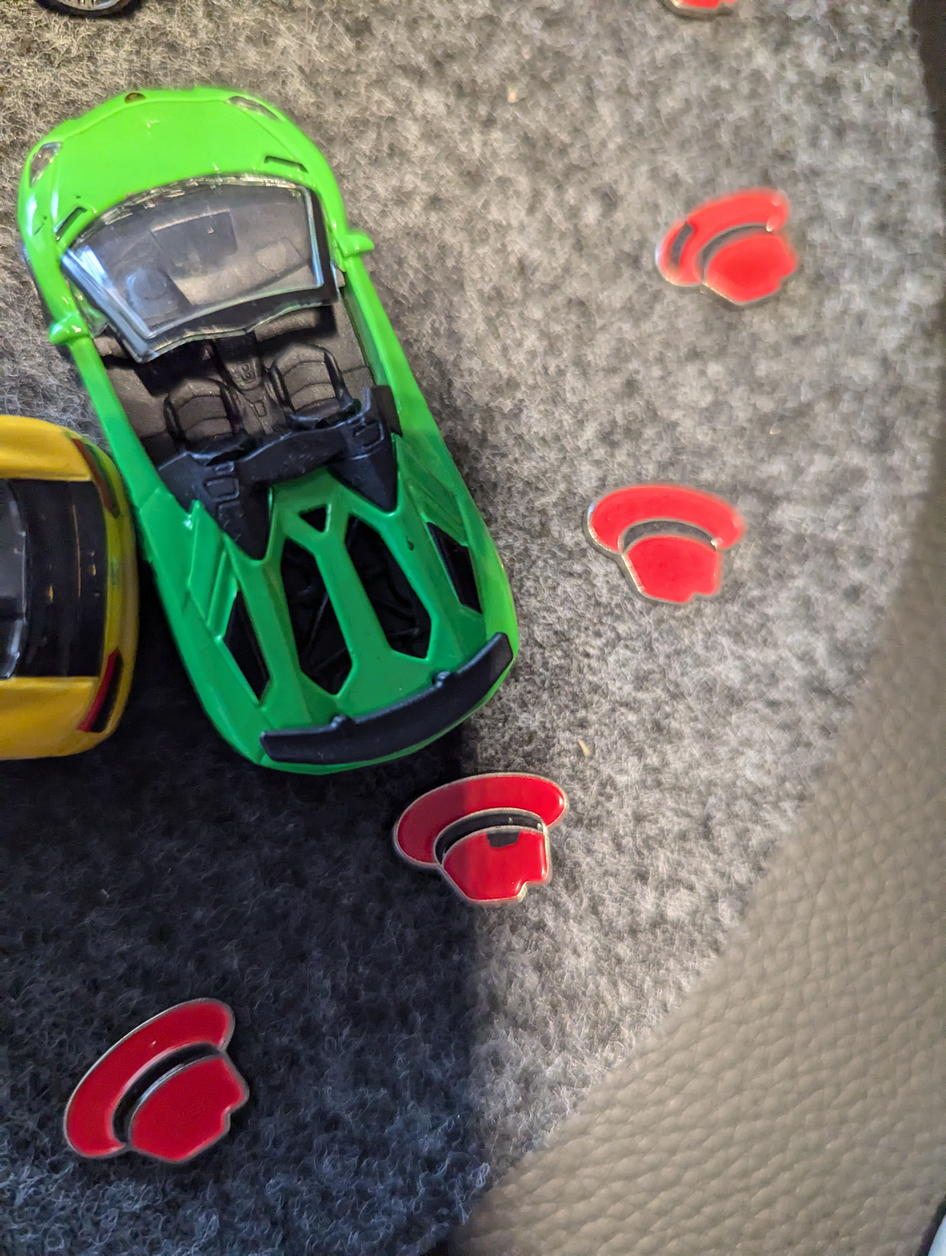Car: (2, 71, 579, 817)
Red-Hat: (46, 963, 285, 1191), (369, 744, 594, 914), (550, 483, 771, 622), (642, 156, 828, 317)
Scratch: (644, 201, 697, 280), (477, 807, 527, 868)
